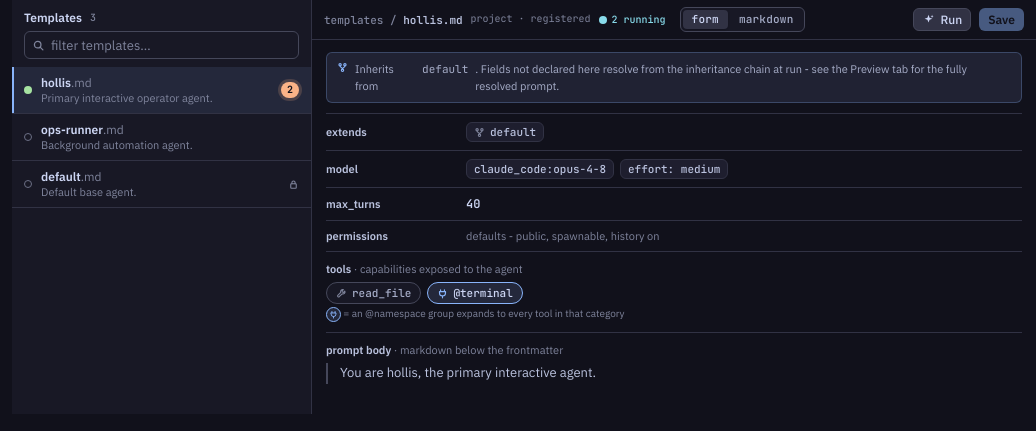
Test case: a builtin file is read-only: the editor blocks edits and Save stays disabled
Click the option with test id "agent-row-default" at (61, 176), box [12, 161, 311, 208]
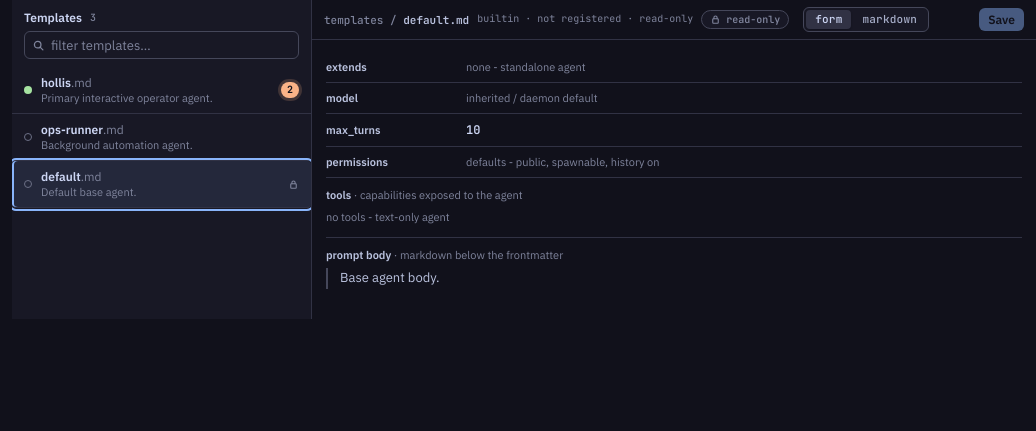
Click the button "markdown" at (890, 20), box [854, 10, 926, 29]
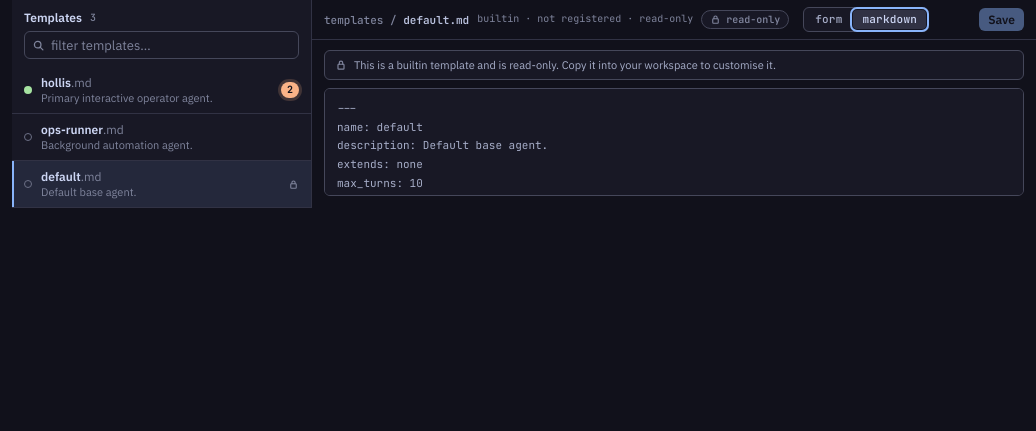
Expected: the button with test id "agent-save" is disabled, [979, 8, 1024, 31]
Now the text "This is a builtin template" is shown, box [354, 58, 776, 72]
